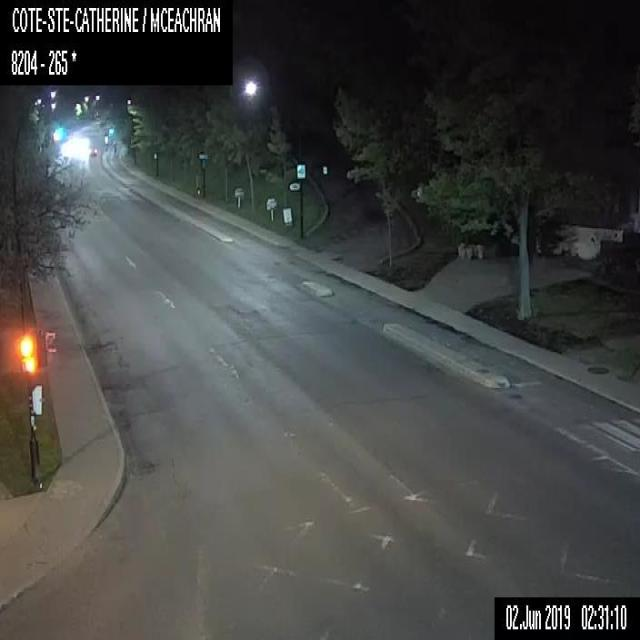vehicle: (88, 146, 97, 156)
